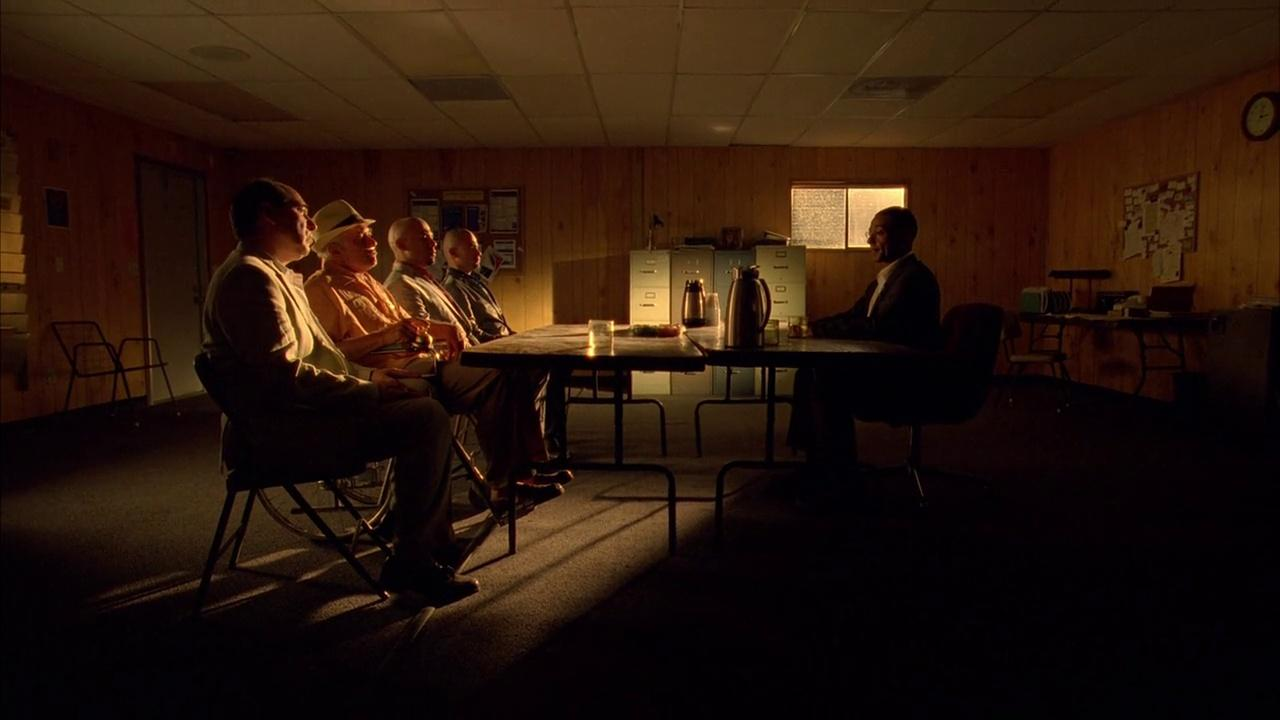Filing Cabinet: (754, 244, 805, 325), (669, 248, 712, 324), (629, 250, 670, 324)
